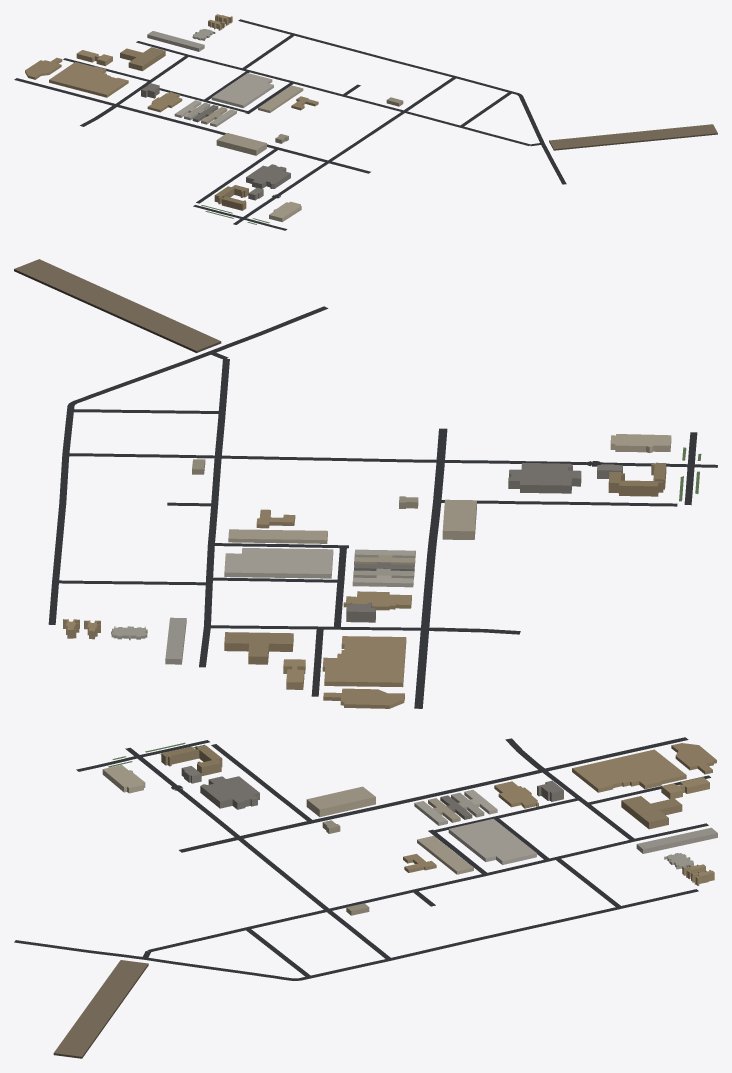
The model's file is tile_17_6.glb.
3 renders of one model, top to bottom at view 1: azimuth 30°, elevation 25°; view 2: azimuth 150°, elevation 25°; view 3: azimuth 270°, elevation 25°, orthographic. The views are drawn at different scales.
Parts seen in each view (by area): view 1: bld_17_6, road_17_6, grn_17_6; view 2: bld_17_6, road_17_6, grn_17_6; view 3: bld_17_6, road_17_6, grn_17_6.
Part boxes in pixels (x1=…): bld_17_6: x1=25, y1=14, x2=403, y2=222; road_17_6: x1=14, y1=19, x2=566, y2=230; grn_17_6: x1=201, y1=124, x2=717, y2=224; bld_17_6: x1=63, y1=434, x2=671, y2=708; road_17_6: x1=48, y1=306, x2=717, y2=708; grn_17_6: x1=14, y1=259, x2=701, y2=501; bld_17_6: x1=102, y1=743, x2=717, y2=915; road_17_6: x1=14, y1=737, x2=710, y2=980; grn_17_6: x1=53, y1=742, x2=205, y2=1058.
Size of the model in its own units: 930 by 14.4 by 865.
